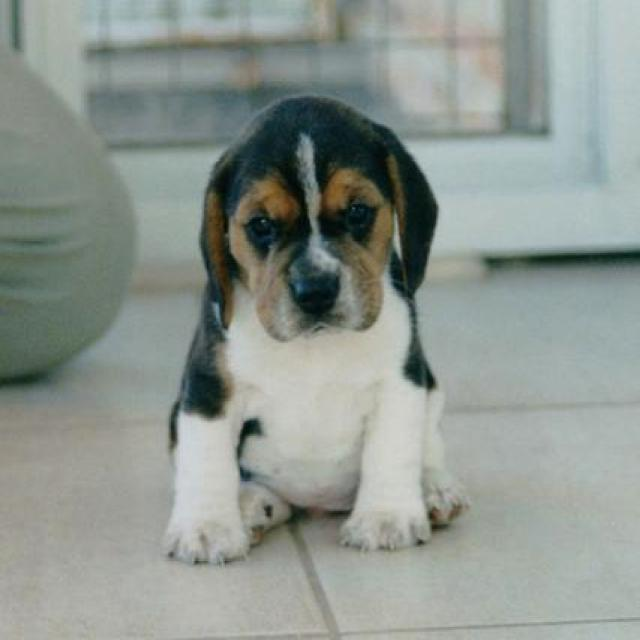beagle: (157, 91, 465, 565)
